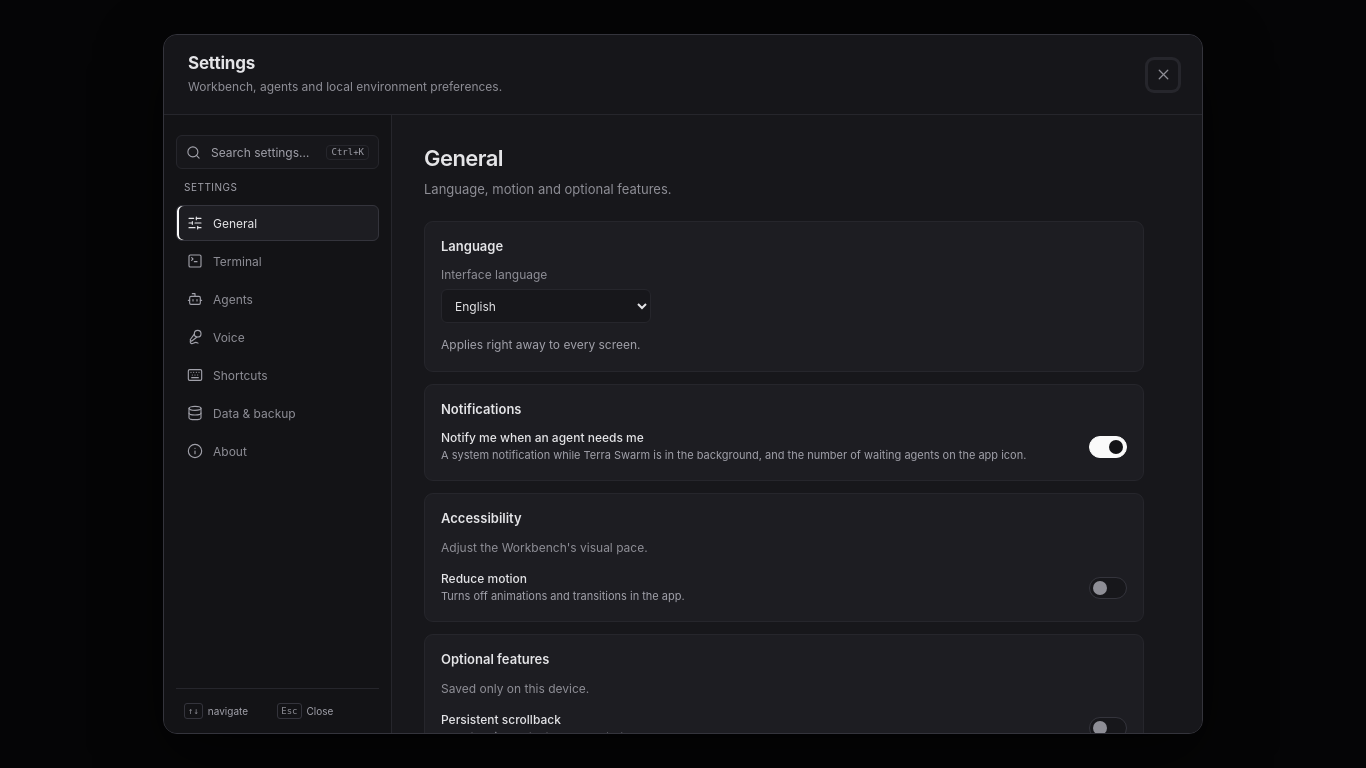
SettingsSectionPanel general › Given the general section, when the user picks another language, then the interface switches to it
Select "Português (Brasil)" in the dropdown labelled "Interface language" at {"x": 546, "y": 306}, box x1=441 y1=289 x2=651 y2=323
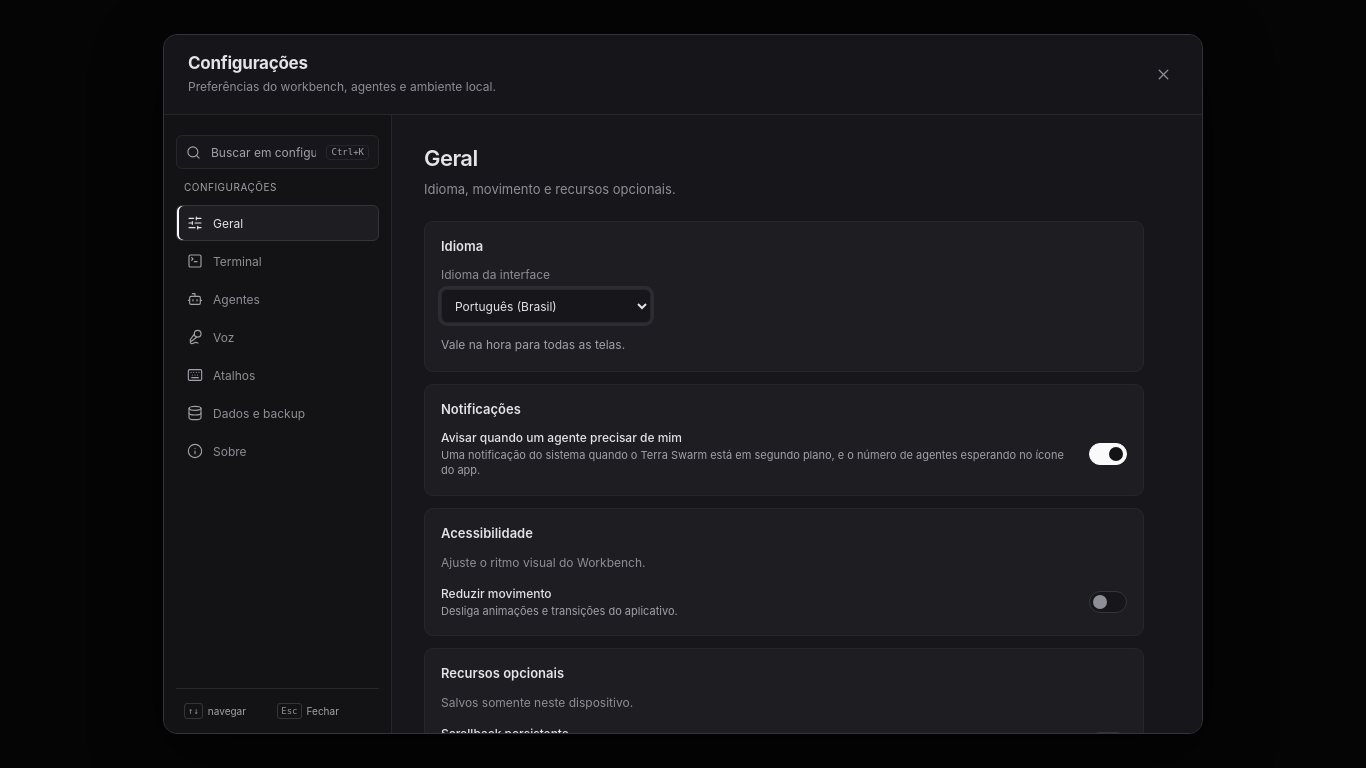
Expected: the heading "Geral" is shown, x1=424 y1=145 x2=478 y2=171
